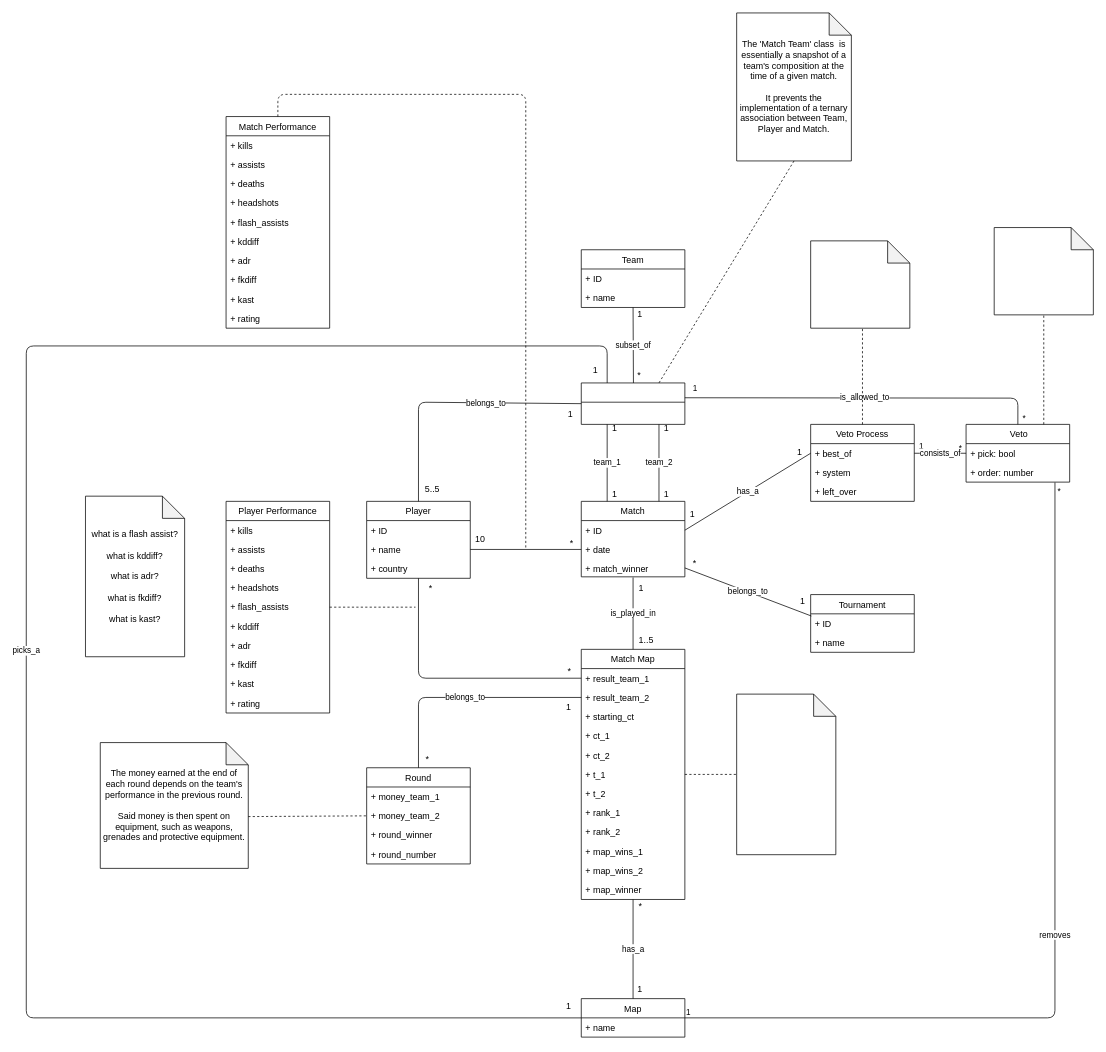
Image size: 1106x1052. Some labels were removed from this diagram. Each missing label, with the centre of its shape:
"Match Team" goes at [633,403].
"Matches are most commonly played with a best-of-1 or best-of-3 approach." goes at [860,284].
"Teams get the chance to exclude 3 maps (and pick 1)" goes at [1043,271].
"what is rank_1 and rank_2? what is ct_1 ..? what is starting_ct?" goes at [786,774].
